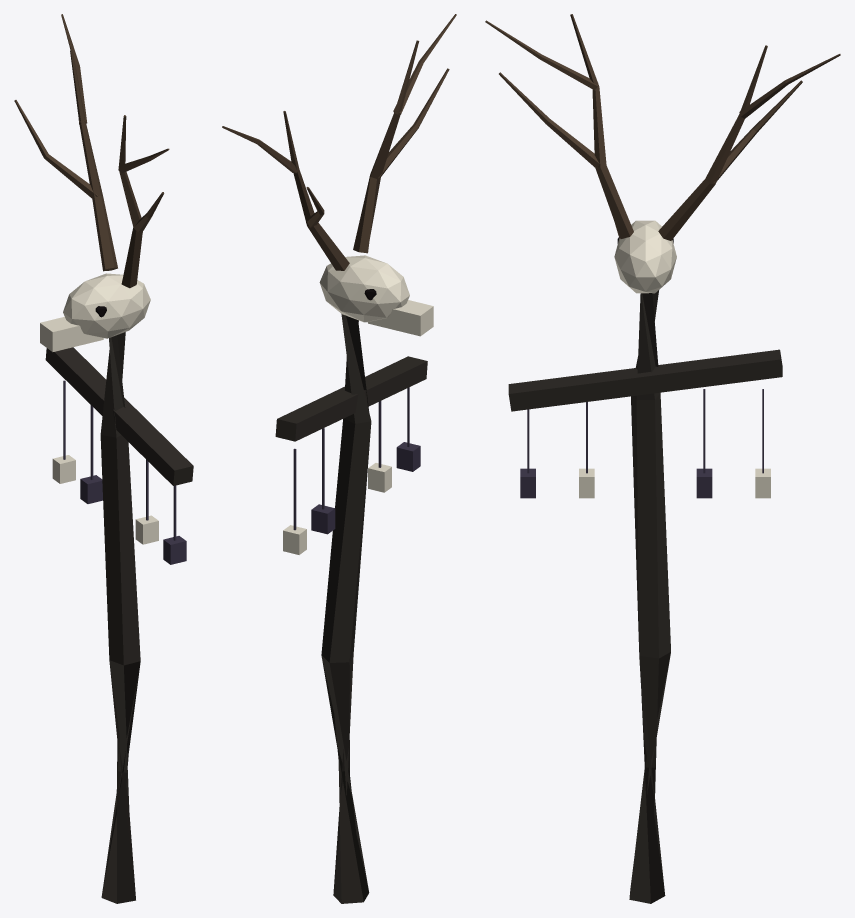
File: totem_lo.glb
3 views of the same model, side by side, from view 1: azimuth 30°, elevation 25°; view 2: azimuth 150°, elevation 25°; view 3: azimuth 270°, elevation 25° (orthographic). The views are drawn at different scales.
Parts seen in each view (by area): view 1: totem; view 2: totem; view 3: totem.
Part boxes in pixels (x1,y1,x2,y2): totem: (14, 14, 193, 903); totem: (222, 14, 456, 903); totem: (485, 14, 840, 903).
Size of the model in its own units: 0.3388 by 2.44 by 0.908.
